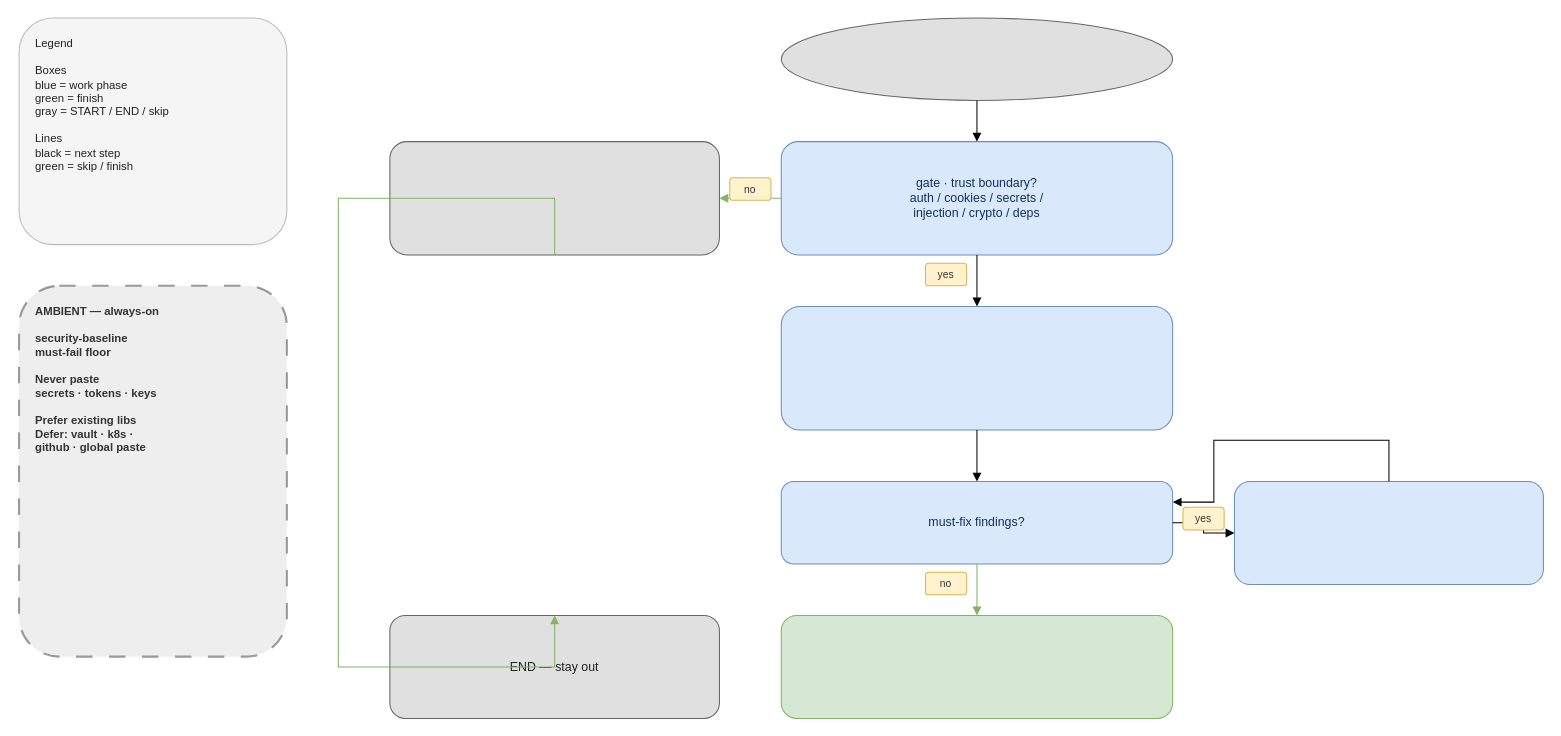
The diagram is 1561 pixels wide and 736 high, and some of its shapes have lost their labels. Here are the shapes that lost their labels. From the top down, the box of each, then its label:
(780, 17, 1173, 100): START — user ask
(389, 141, 719, 255): skip — no boundary ordinary coding; do not review for sport
(780, 305, 1173, 430): baseline + matching rule then security-review checklist on the diff
(1233, 480, 1543, 585): fix must-fix then re-check item
(780, 614, 1173, 718): END — ship (notes optional; no secrets)
